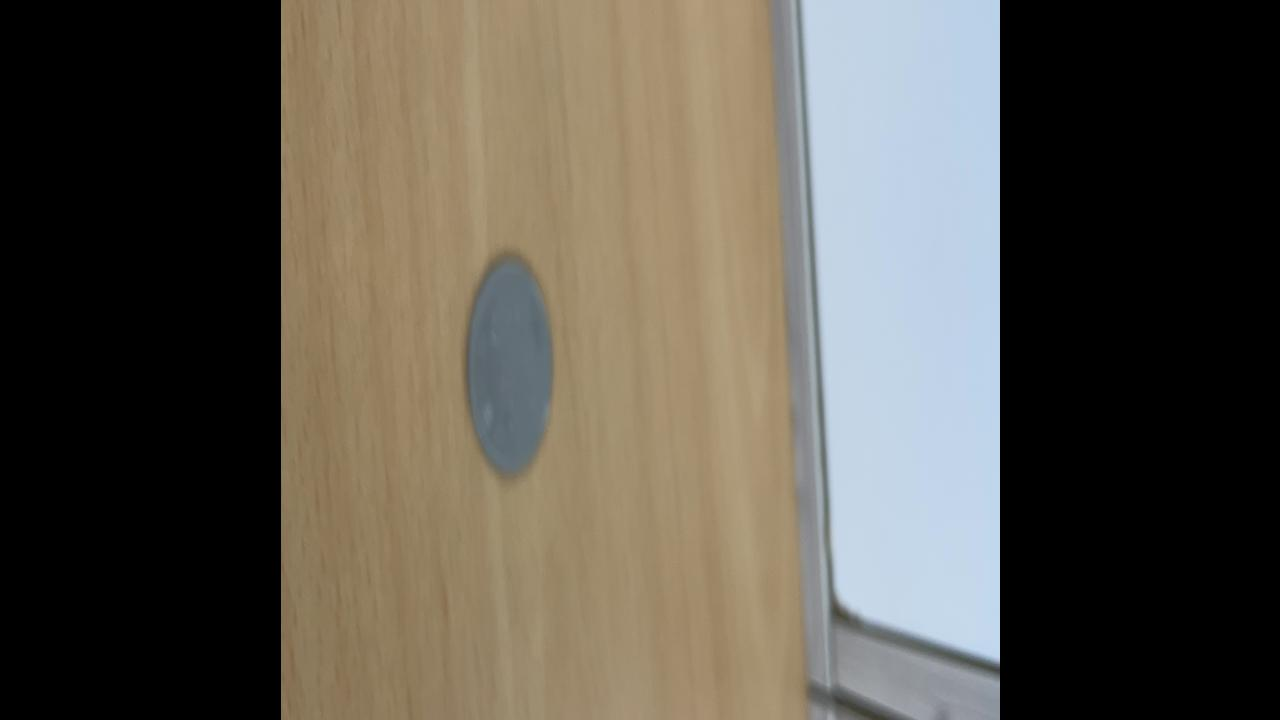coin: (462, 245, 556, 487)
